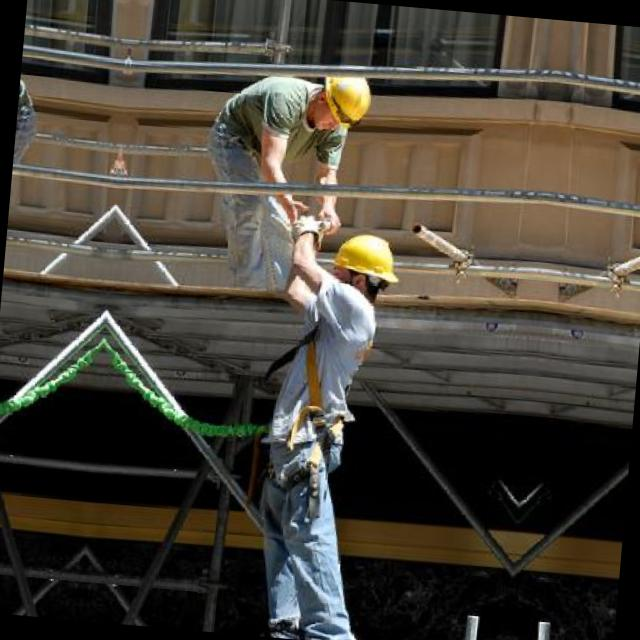helmet: (324, 224, 406, 306), (296, 60, 380, 138)
